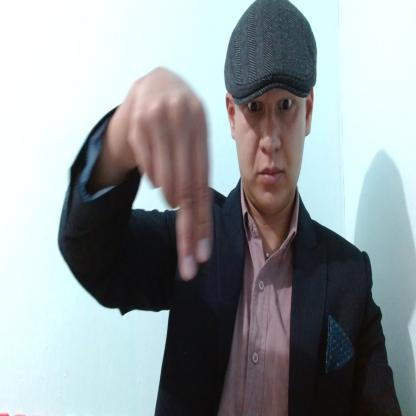N: (129, 66, 212, 281)
